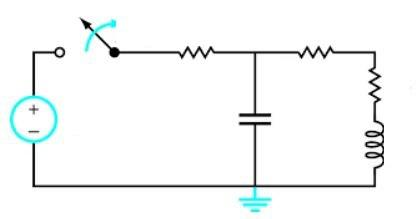resistor: (171, 36, 229, 65), (285, 36, 338, 67), (360, 54, 388, 105), (285, 40, 339, 63)
